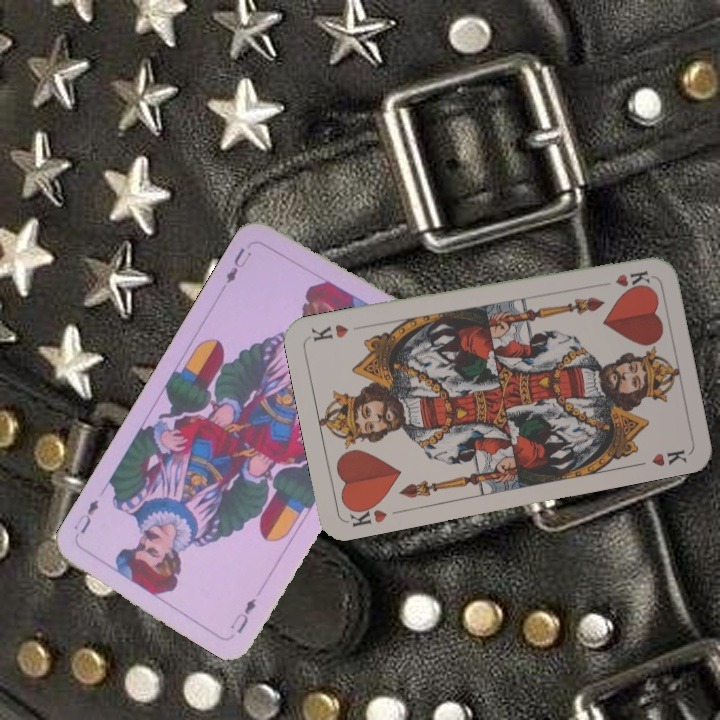EU: (221, 244, 255, 286), (226, 593, 259, 636)
HK: (344, 498, 390, 530), (612, 266, 652, 289)
